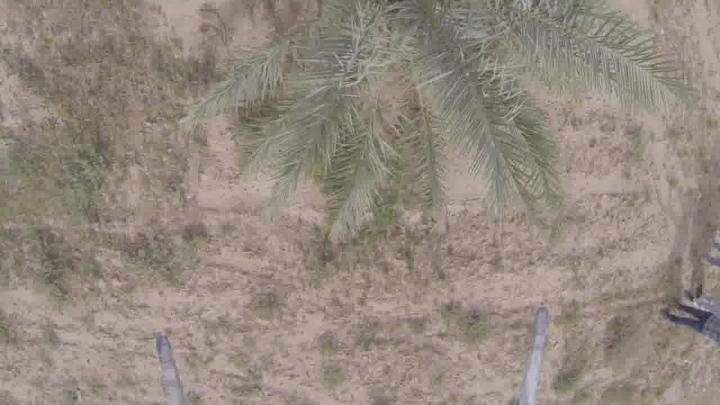Date-Palm-Crown: (261, 1, 566, 172)
